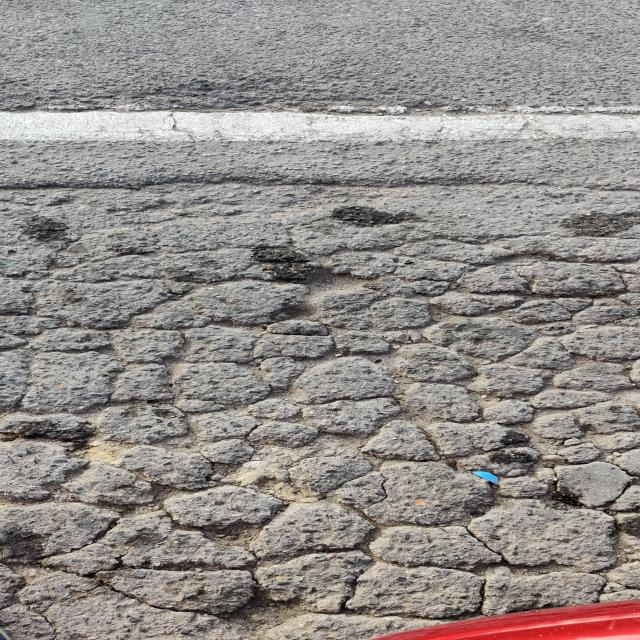litter: (473, 471, 497, 484)
